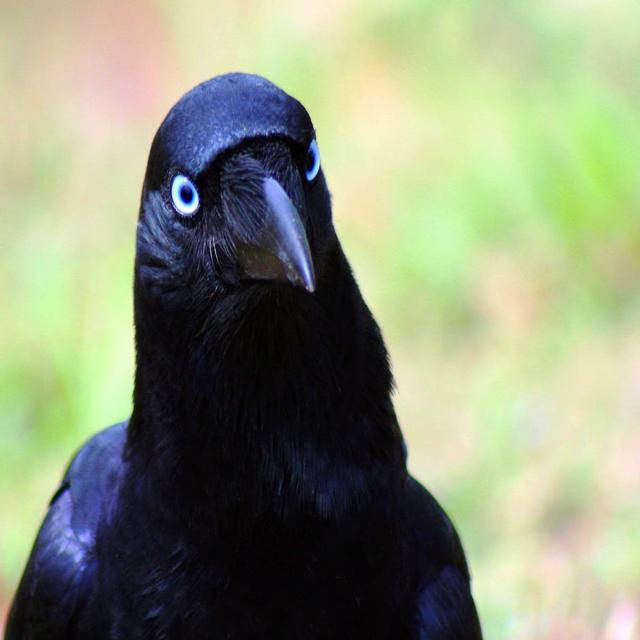crow: (127, 110, 399, 520)
